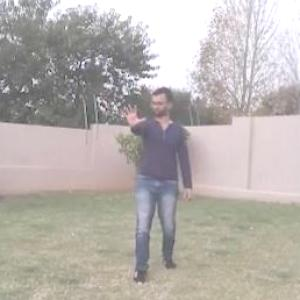follow_hand: (119, 99, 145, 129)
